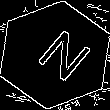N_SW: (21, 23, 89, 87)
